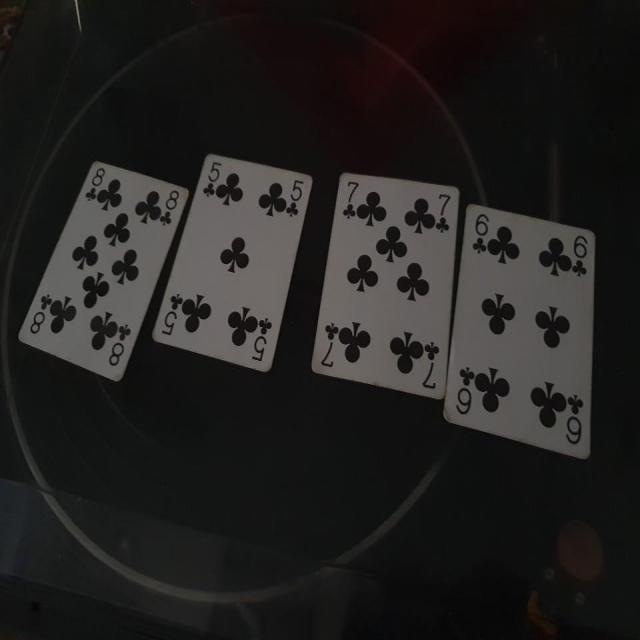5 Trefoils: (152, 151, 314, 376)
6 Trefoils: (442, 203, 598, 460)
7 Trefoils: (308, 171, 462, 401)
8 Trefoils: (18, 160, 189, 385)
